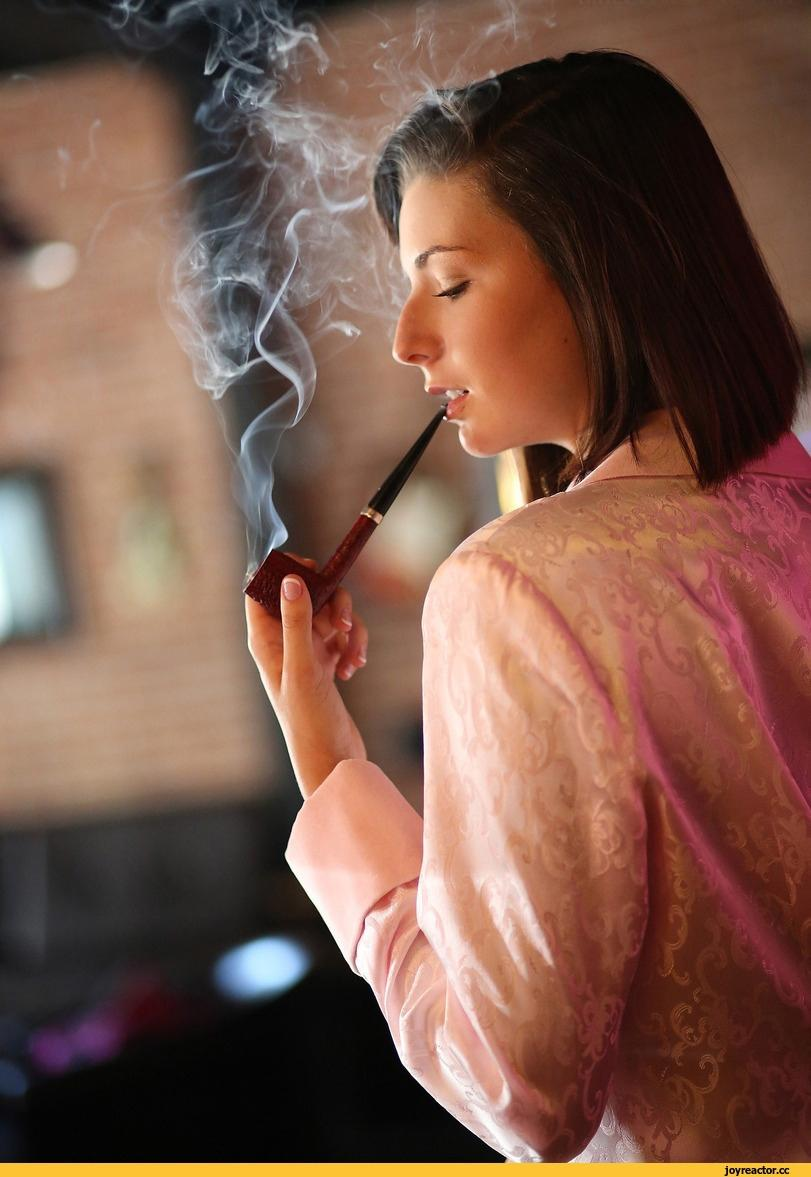trubka: (242, 405, 447, 620)
